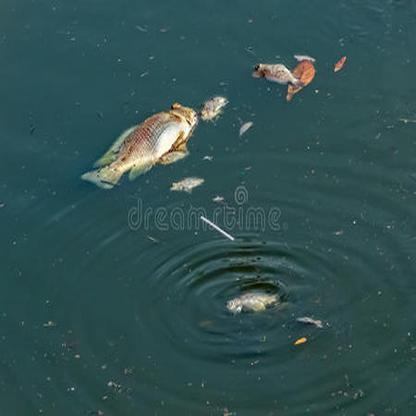deceased fish: (83, 104, 194, 189), (224, 288, 281, 317), (253, 60, 305, 89)
